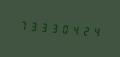four: (67, 20, 76, 38), (87, 22, 96, 40)
seven: (17, 16, 26, 34)
three: (47, 18, 56, 36), (27, 17, 36, 34), (37, 18, 46, 35)
two: (77, 21, 86, 39)
zero: (57, 19, 66, 37)
